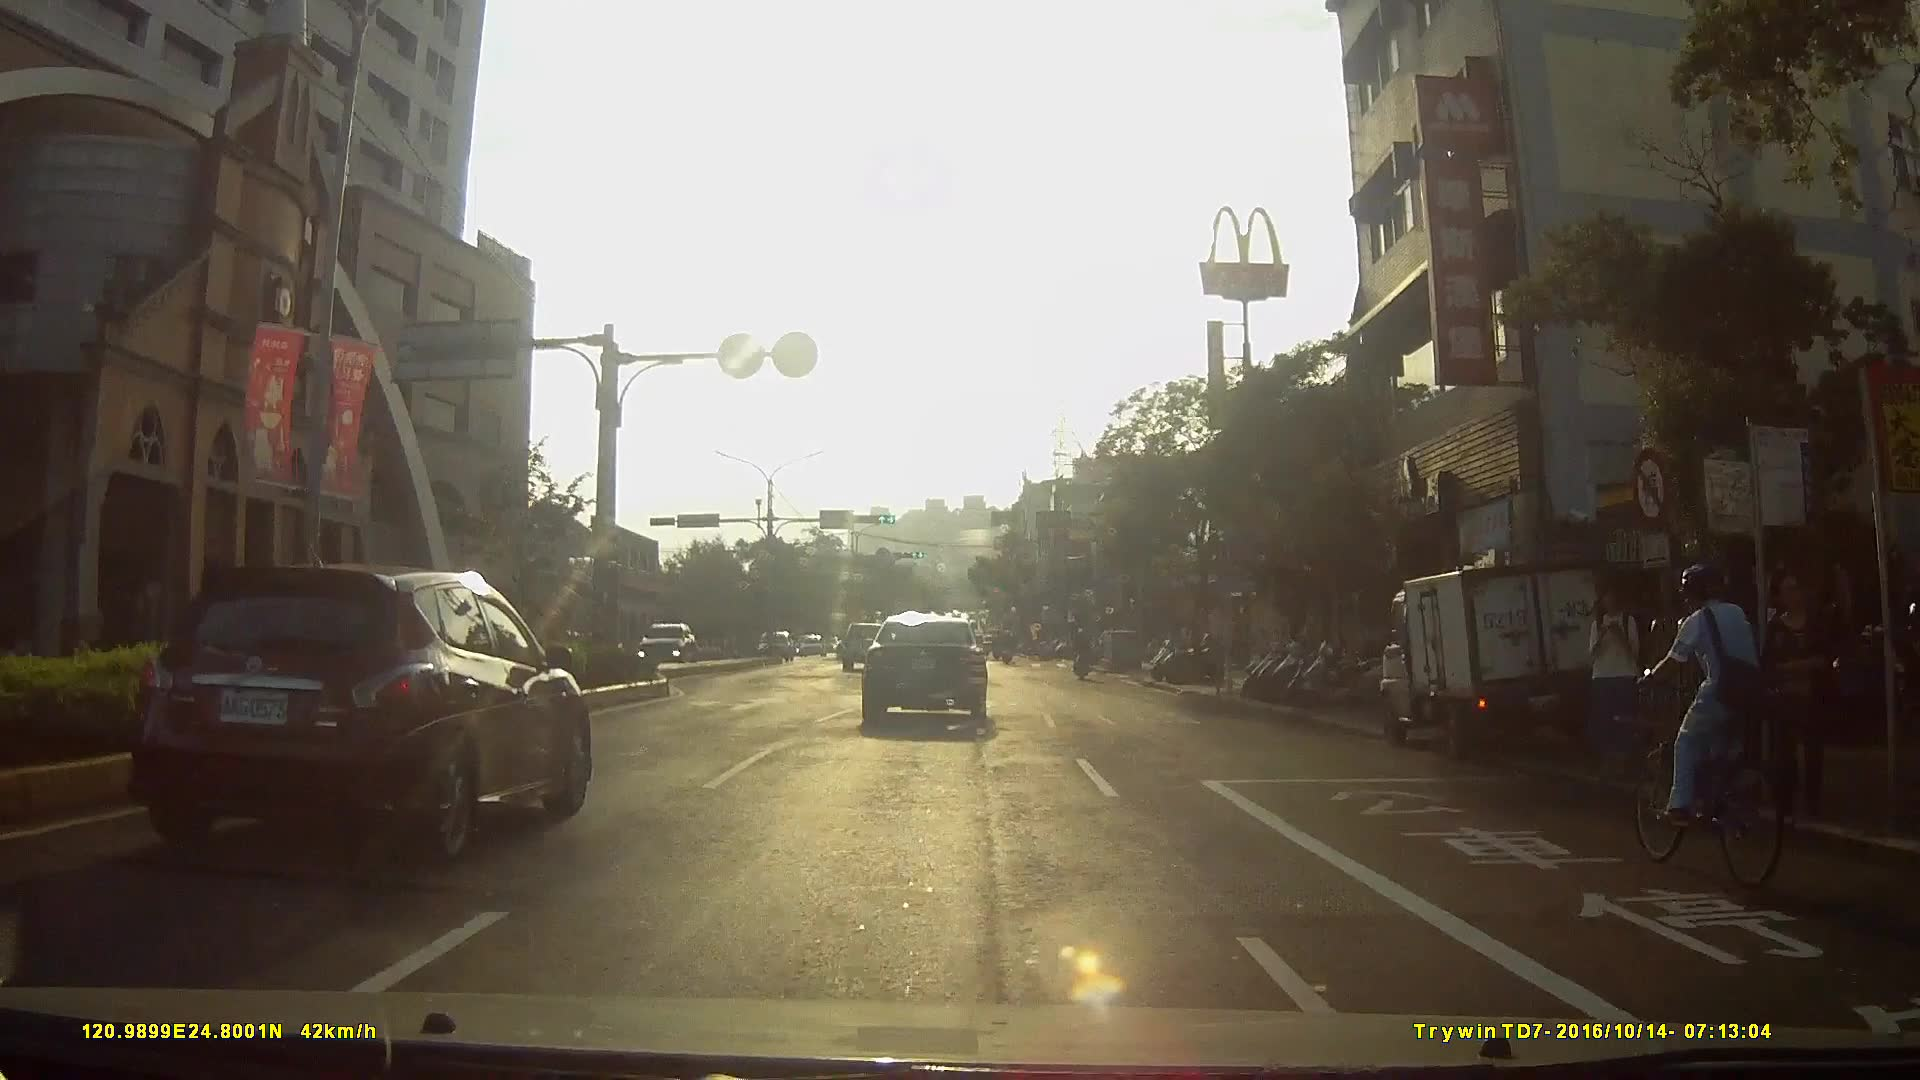pedestrian: (1772, 567, 1850, 828), (1585, 583, 1645, 782)
rider: (1628, 562, 1788, 891), (1072, 624, 1097, 684)
vehicle: (112, 559, 600, 859), (1371, 549, 1642, 766), (861, 611, 1004, 735), (628, 621, 699, 670), (837, 620, 896, 675), (744, 627, 787, 664), (790, 631, 823, 657)
